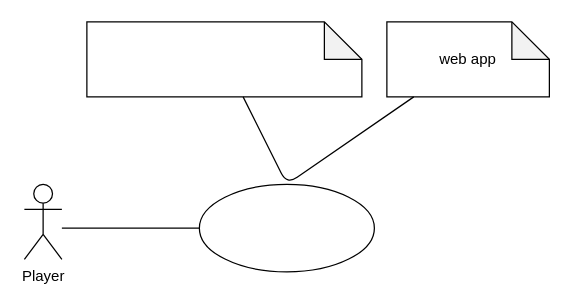
This 571x308 diagram has some shape labels left out. Here are the shapes that lost their labels. From the top down, the centre of each, then its label:
pixel 224 59: 一人で白黒交互にうつ
pixel 286 227: Reverse App
